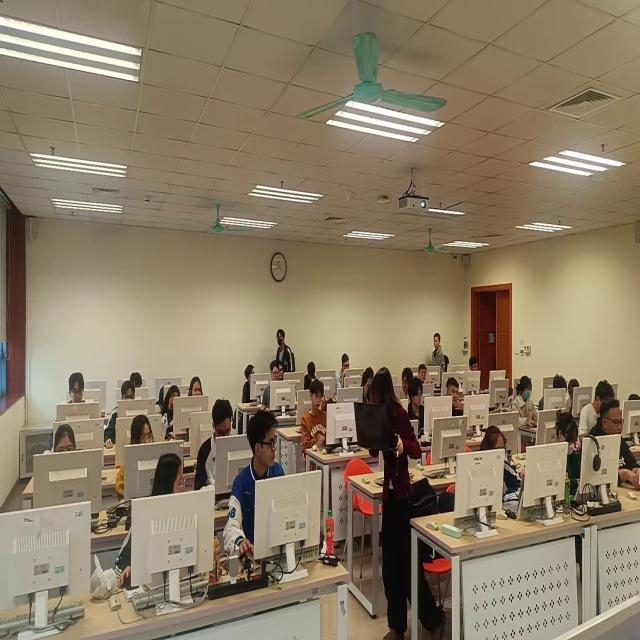raise_head: (116, 416, 155, 502), (189, 376, 206, 398), (419, 364, 428, 385)
stand: (355, 367, 447, 640), (276, 330, 297, 374), (432, 334, 450, 378)
using_computer: (588, 400, 640, 489), (195, 400, 234, 492), (481, 427, 524, 504), (50, 373, 87, 453), (578, 380, 616, 450), (302, 379, 330, 466), (556, 410, 585, 493), (105, 381, 136, 449), (513, 376, 541, 430), (262, 361, 282, 411), (470, 357, 491, 396), (408, 378, 426, 423), (446, 377, 466, 417), (55, 425, 77, 453), (337, 354, 351, 390), (362, 370, 374, 403), (304, 362, 317, 391), (131, 373, 143, 389), (628, 393, 640, 402)
